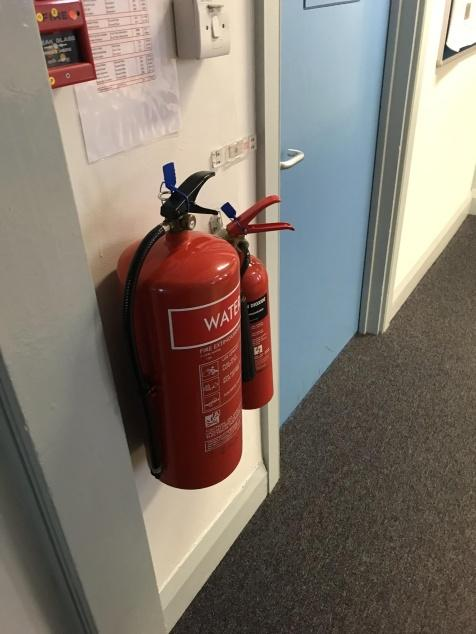APAR: (111, 170, 242, 490), (226, 193, 293, 410)
